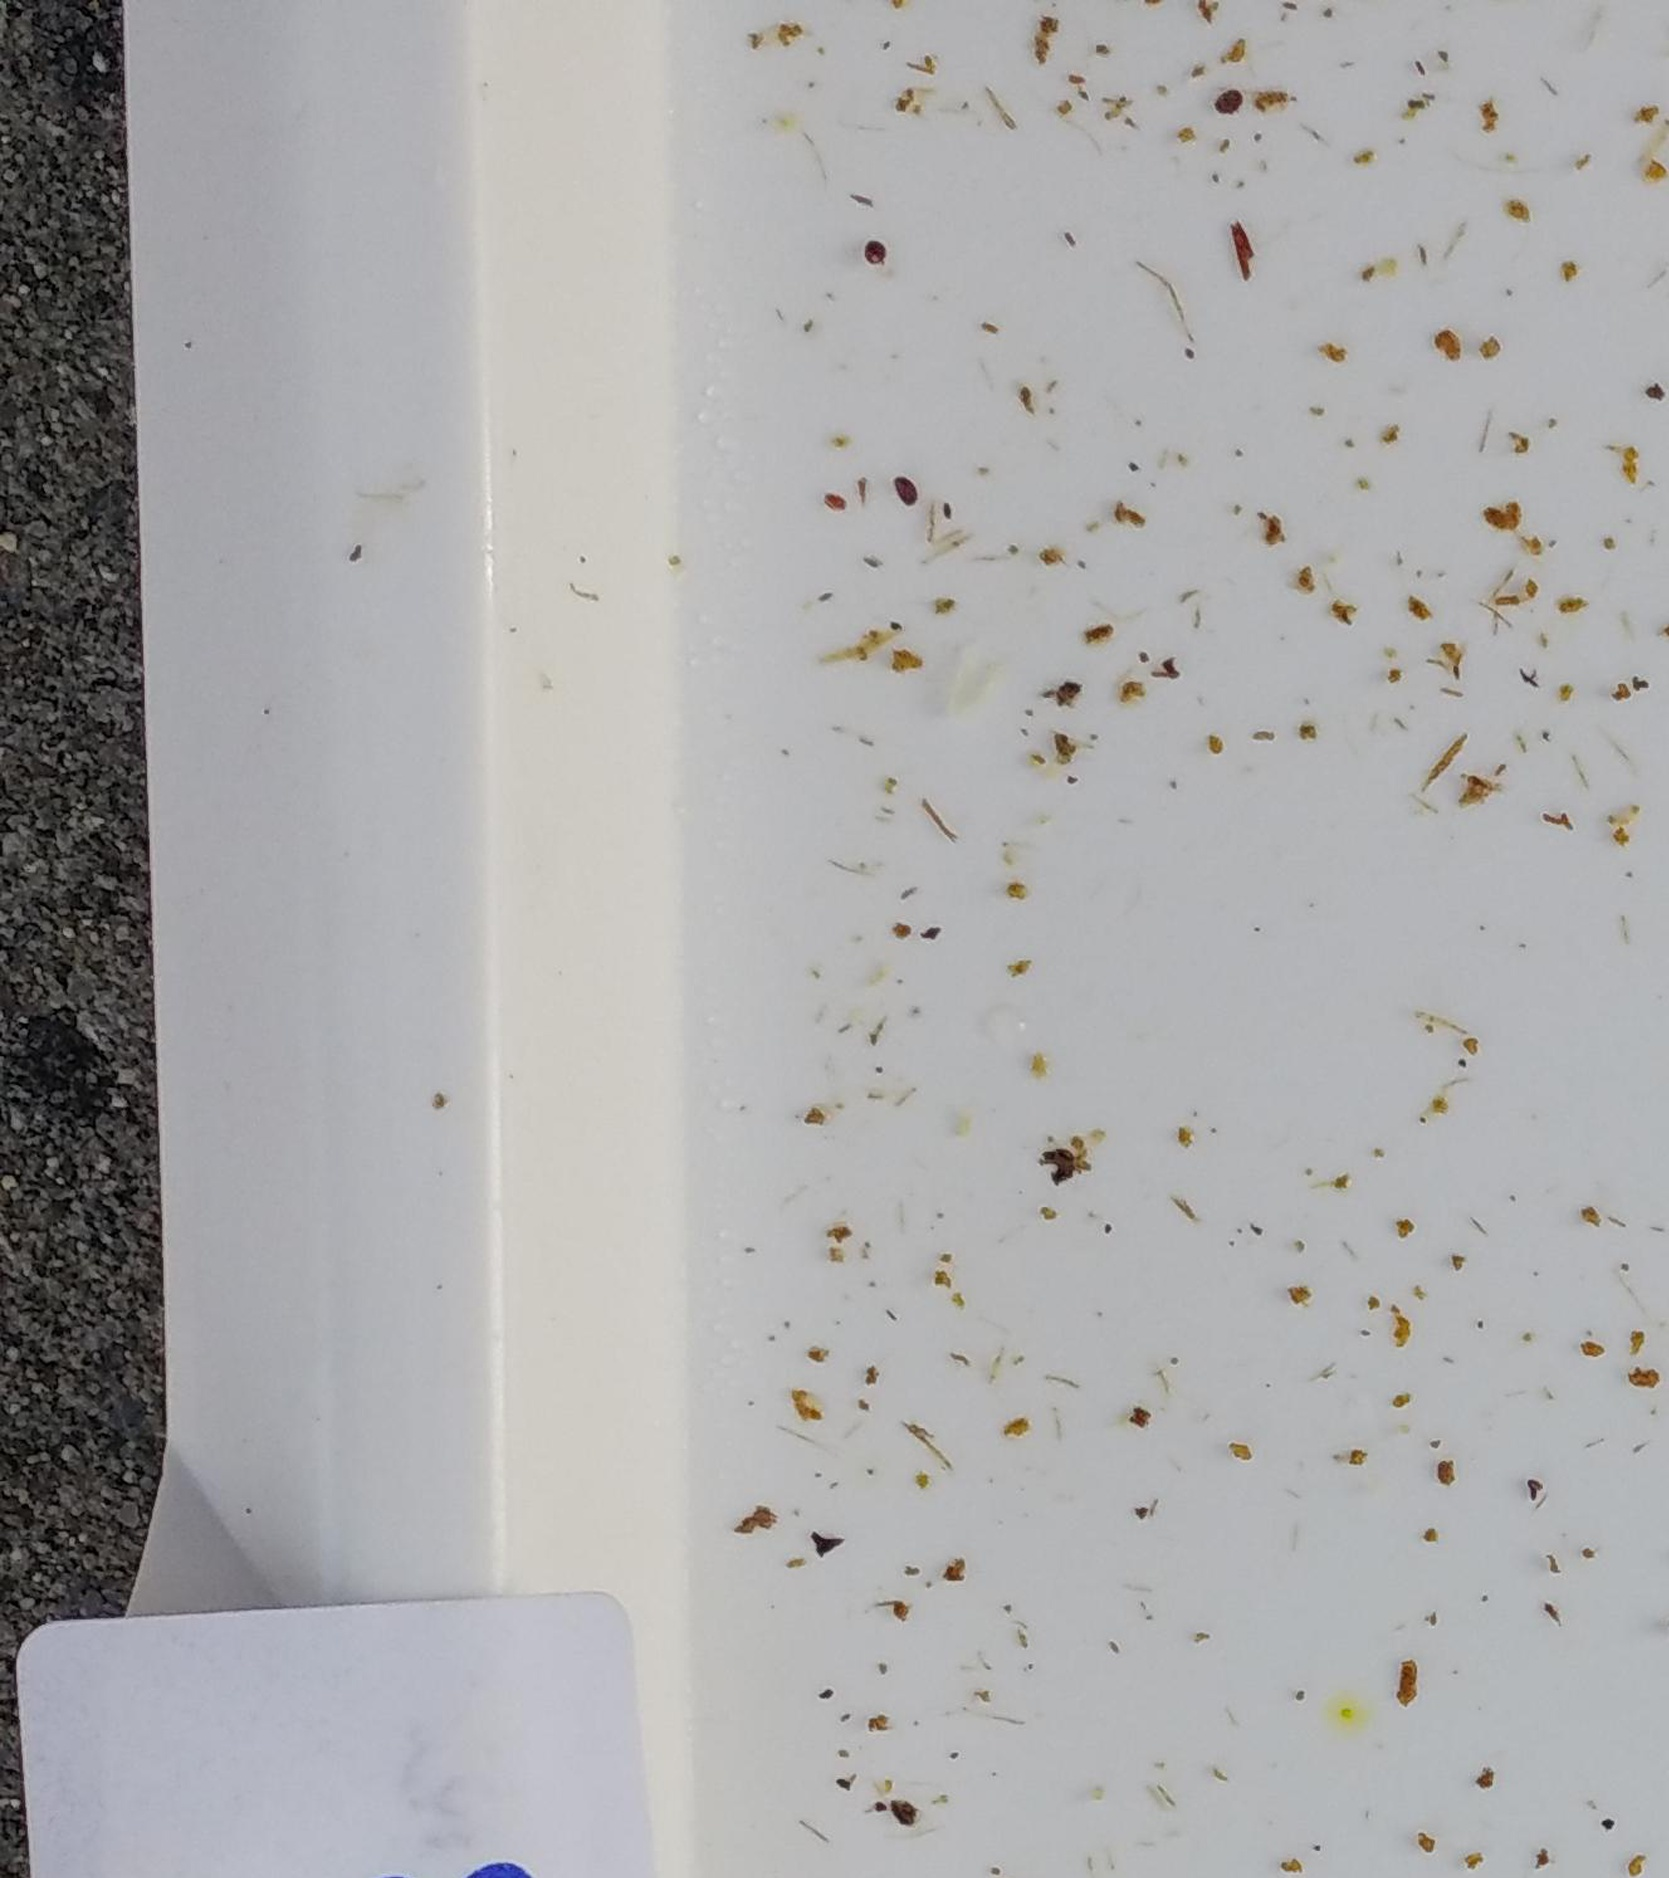Varroa: (1211, 89, 1247, 126), (892, 470, 926, 509), (855, 235, 889, 271)
